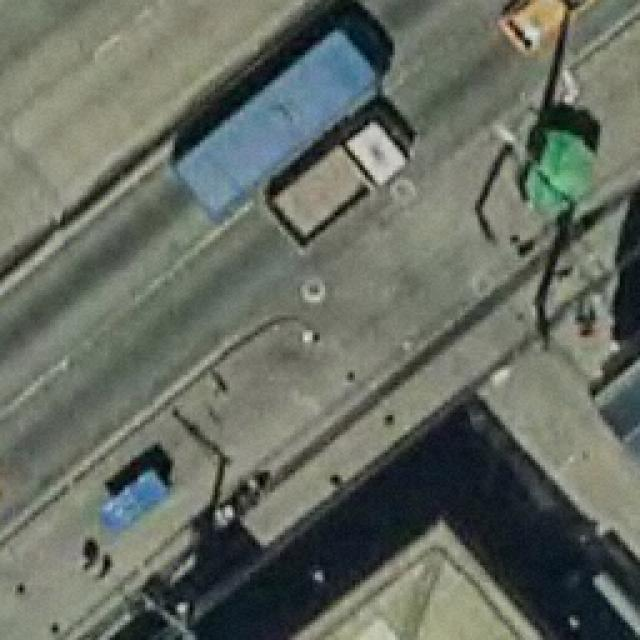vendedor_ambulante: (520, 127, 599, 216)
